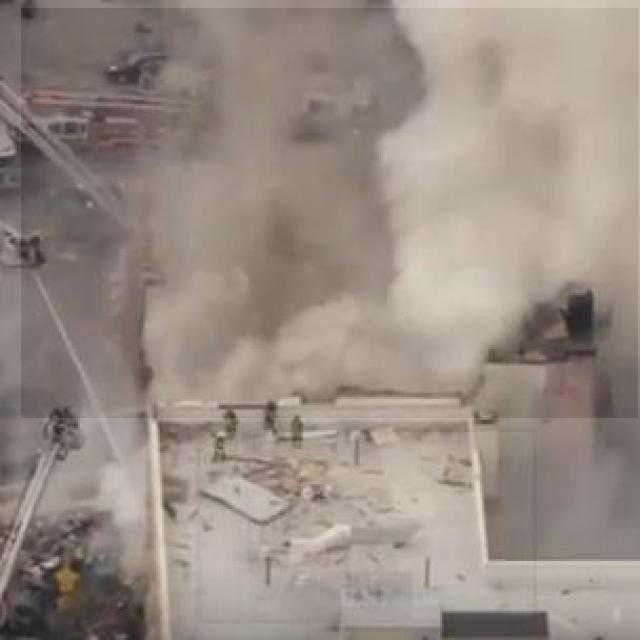Smoke: (21, 8, 638, 418)
